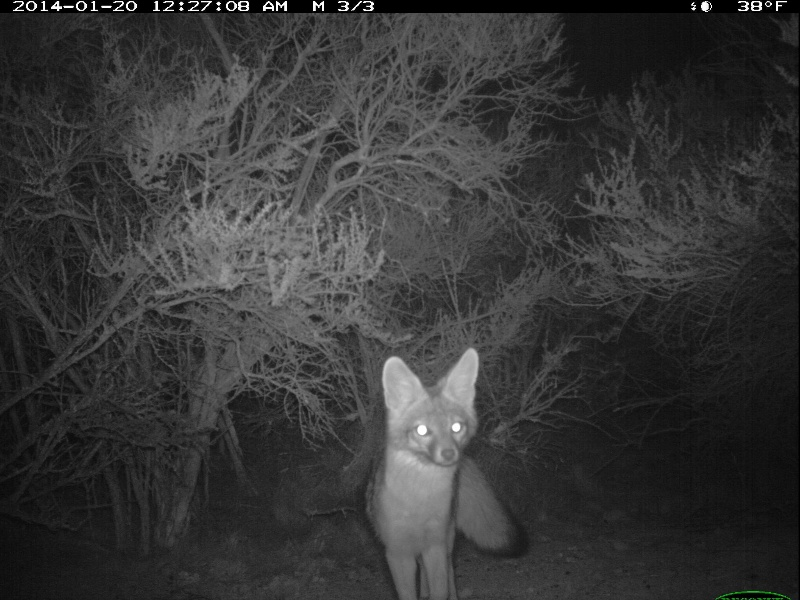fox: (360, 344, 529, 599)
